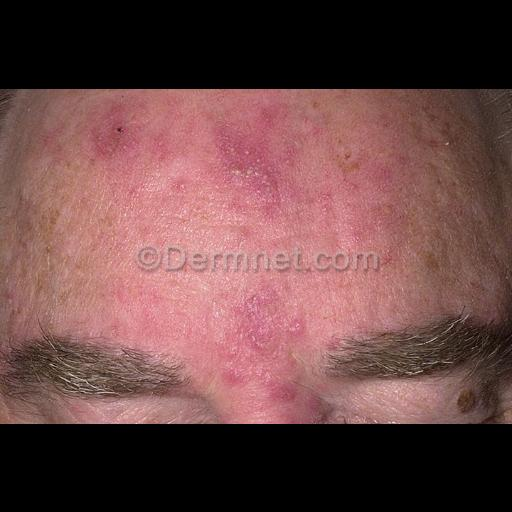Skin_Lesion: (77, 88, 189, 214), (198, 94, 306, 220), (320, 166, 402, 278), (200, 312, 280, 408), (286, 312, 308, 338)
